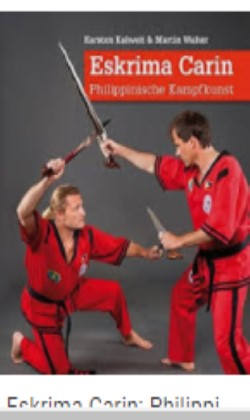baston_e: (56, 49, 102, 120)
baston_v: (50, 36, 66, 54), (100, 114, 115, 127), (38, 166, 52, 177)
